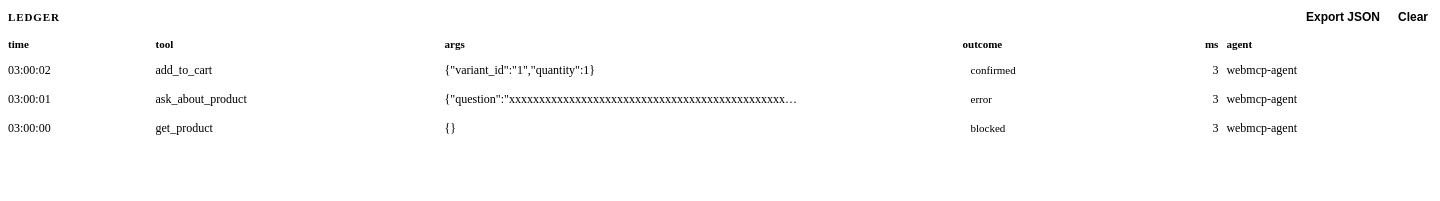
it: LedgerTable › renders rows newest first with outcome pills and truncated args
This screenshot has width=1440, height=201.
Check: the row with test id "ledger-row" shows "add_to_cart", box [156, 63, 212, 77]
Check: the row with test id "ledger-row" shows "get_product", box [156, 121, 213, 135]
Click the 2nd cell with class "mp-args": coordinates (704, 100) [444, 85, 962, 114]
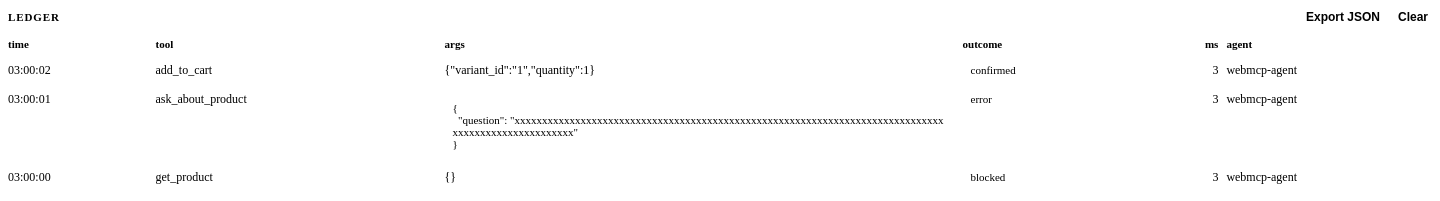
Click the button "Clear": coordinates (1413, 17) [1394, 8, 1432, 26]
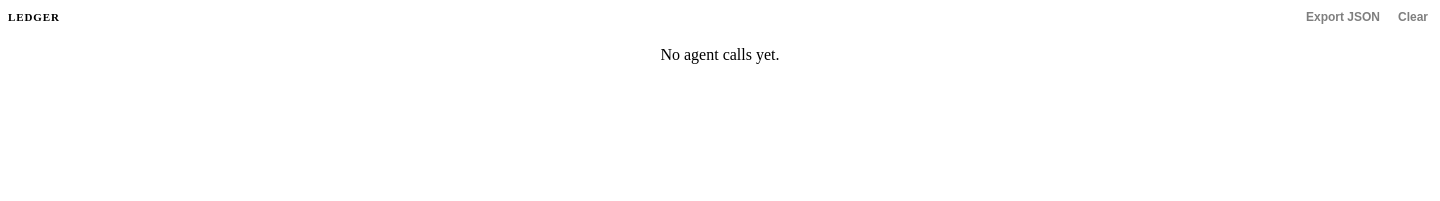
Check: the text "No agent calls yet." is shown, box [660, 46, 780, 63]
